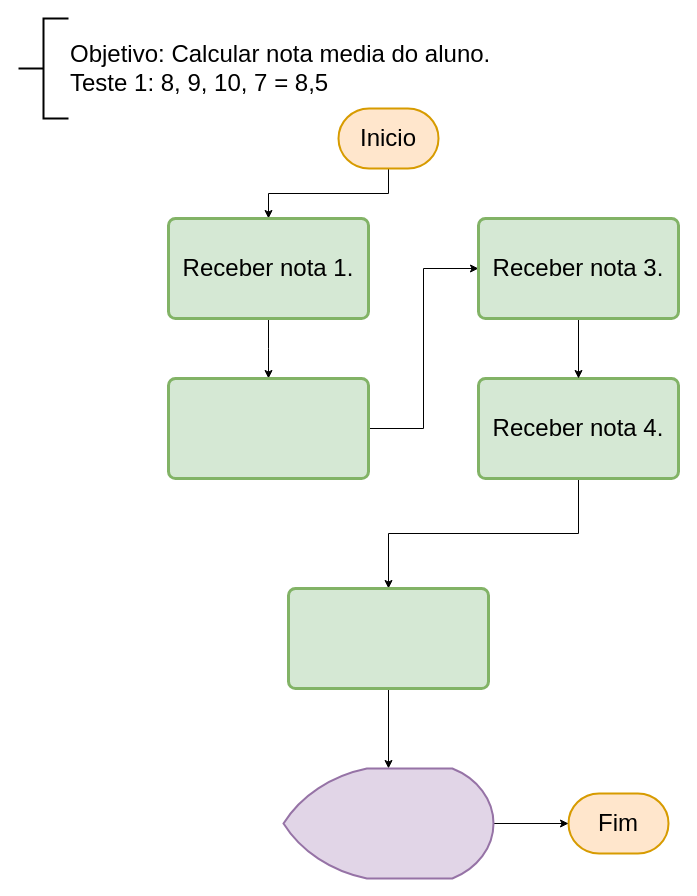
Some shapes in this 697 by 896 pixel diagram are drawn without their labels. The centre of each missing label's shape, as x and y in pixels:
"Calcular a media das 4 notas." goes at (x=388, y=638).
"Exibir a media" goes at (x=388, y=823).
"Receber nota 2." goes at (x=268, y=428).
